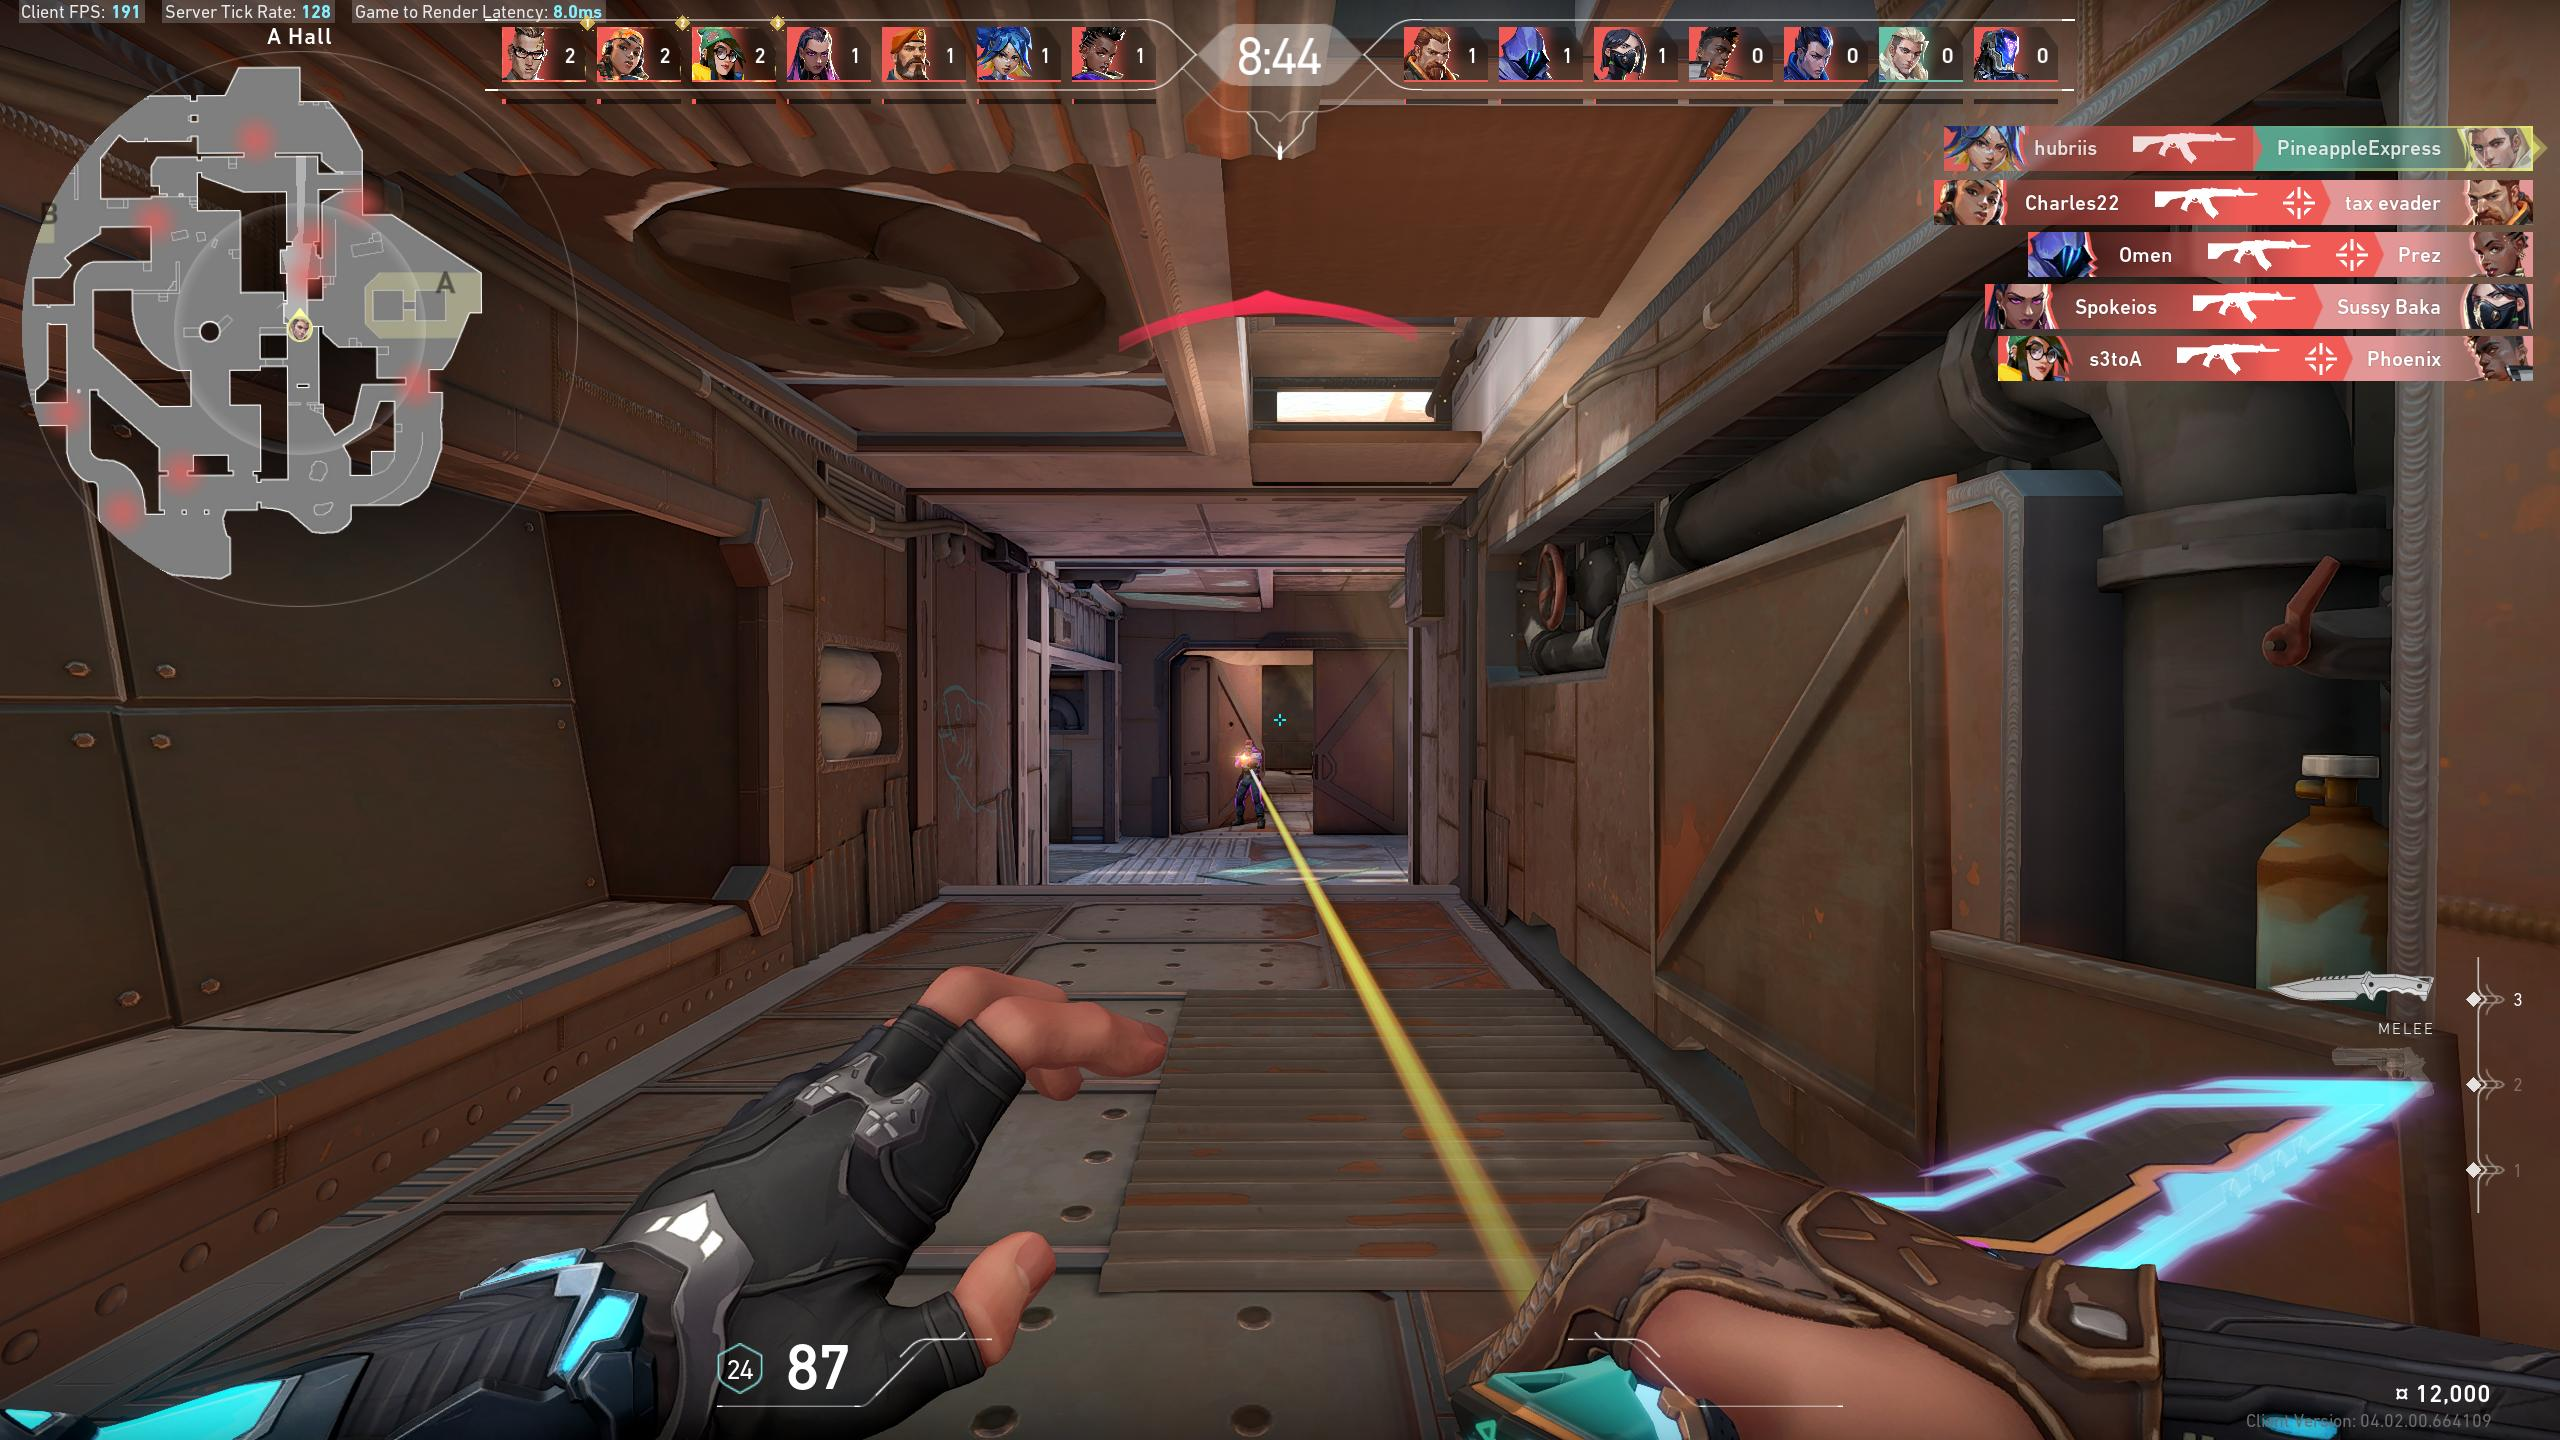enemyBody: (1243, 753, 1254, 774)
enemyHead: (1247, 744, 1252, 751)
